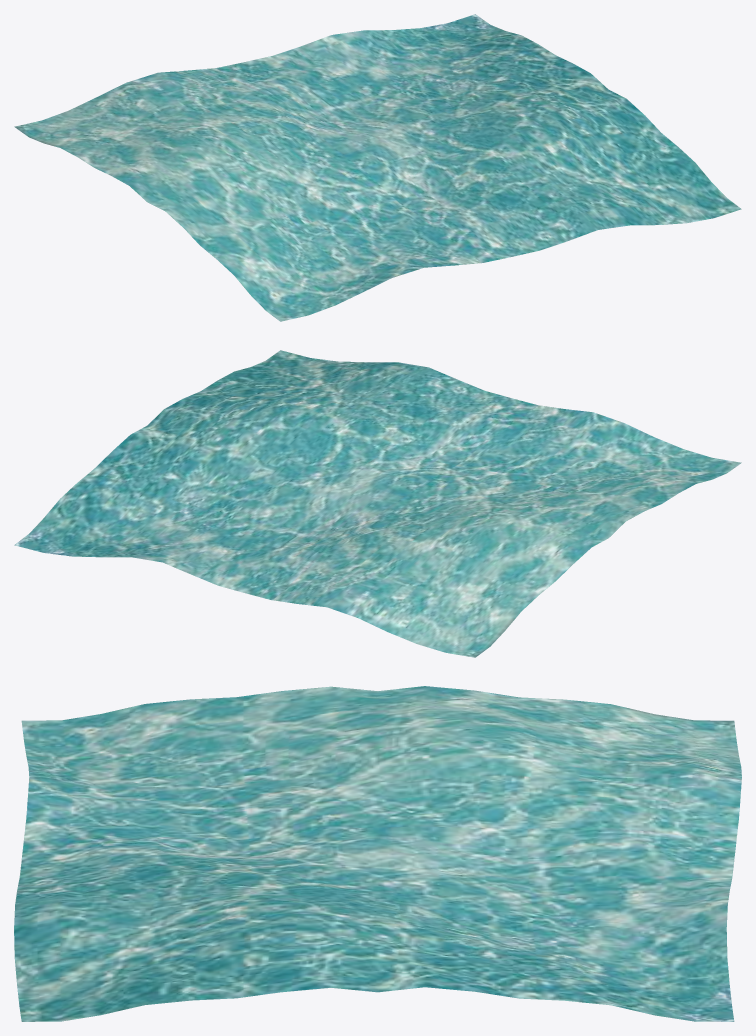
The model's file is water_000188.obj.
3 views of the same model, one above another, from view 1: azimuth 30°, elevation 25°; view 2: azimuth 150°, elevation 25°; view 3: azimuth 270°, elevation 25° (orthographic). The views are drawn at different scales.
Visible parts, largest first — view 1: Plan.003_Plan.001; view 2: Plan.003_Plan.001; view 3: Plan.003_Plan.001.
Boxes of the visible parts, box(x1,y1,x2,y2) form: Plan.003_Plan.001: box(14, 14, 741, 321); Plan.003_Plan.001: box(14, 350, 741, 657); Plan.003_Plan.001: box(14, 686, 741, 1021).
Bounding box in the file's own units: 60461 × 4428 × 61627.
Materials: 1 (1 with a texture image).
